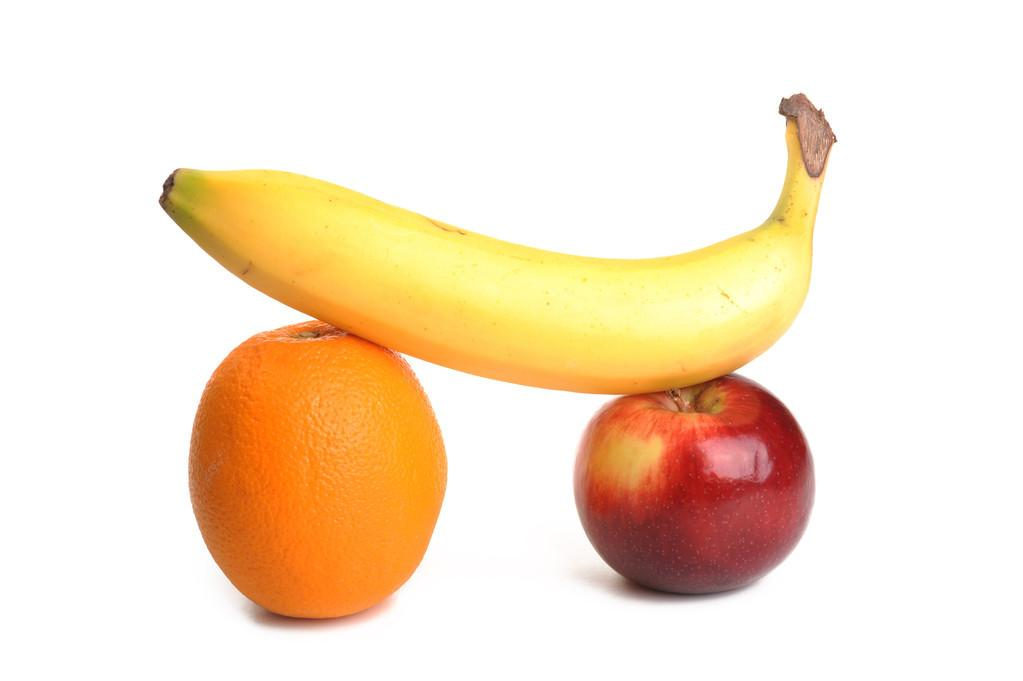apple: (569, 373, 814, 597)
banana: (158, 92, 836, 395)
orange: (186, 320, 448, 624)
